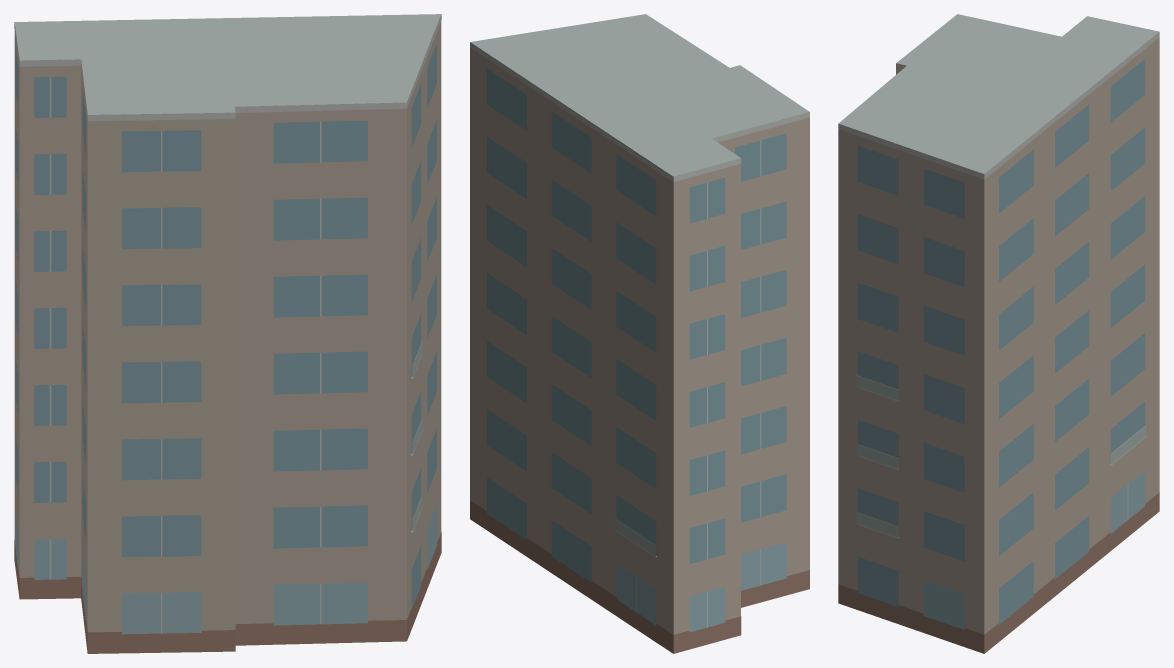
File: survey-upis-32955268.glb
3 renders of one model, left to right at view 1: azimuth 30°, elevation 25°; view 2: azimuth 150°, elevation 25°; view 3: azimuth 270°, elevation 25°, orthographic. The views are drawn at different scales.
Visible parts, largest first — view 1: survey-upis-32955268.tmp; view 2: survey-upis-32955268.tmp; view 3: survey-upis-32955268.tmp.
Part boxes in pixels (x1=…): survey-upis-32955268.tmp: x1=14, y1=14, x2=441, y2=653; survey-upis-32955268.tmp: x1=470, y1=14, x2=809, y2=653; survey-upis-32955268.tmp: x1=838, y1=14, x2=1159, y2=653.
Bounding box in the file's own units: 15.04 × 21 × 12.76.
